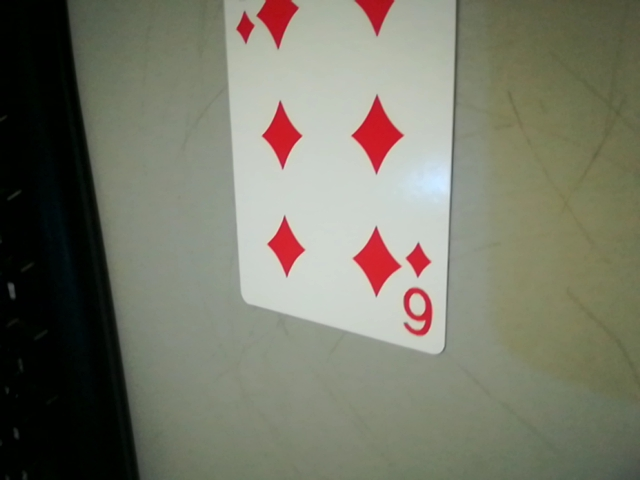fk 6: (392, 240, 444, 347)
